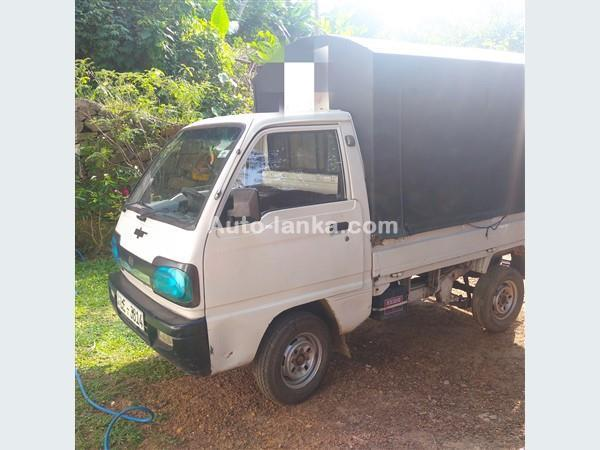truck: (108, 33, 525, 405)
